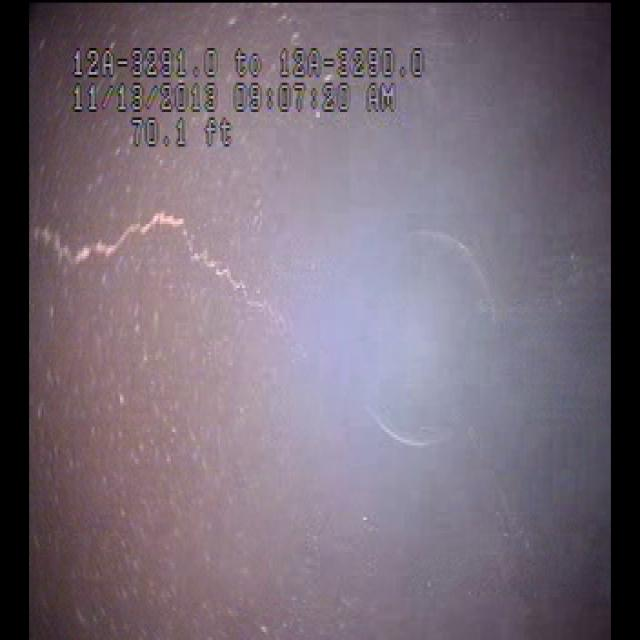Crack: (34, 171, 290, 326)
